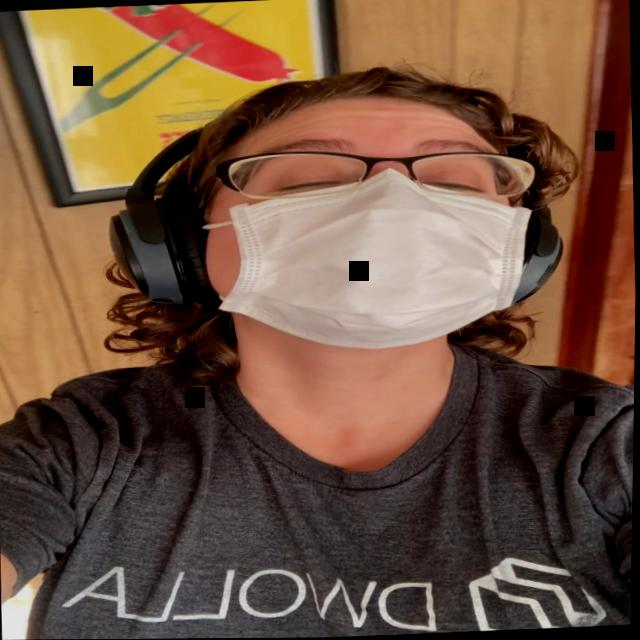Mask: (193, 91, 533, 355)
